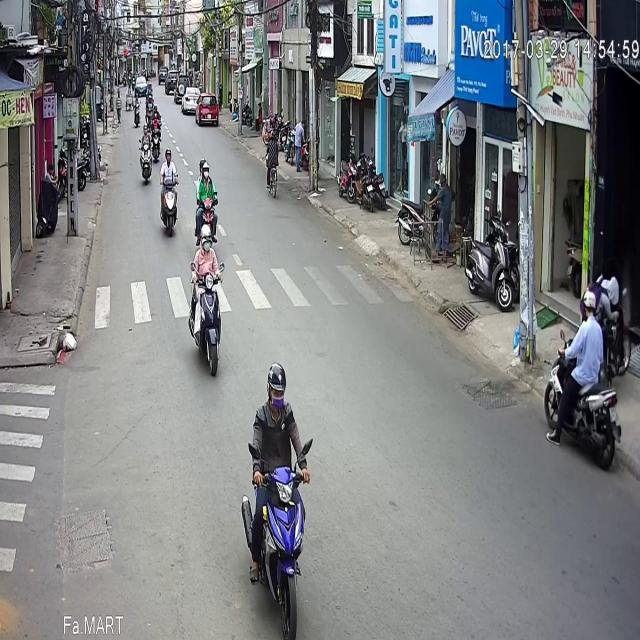bicycle: (264, 71, 278, 139)
car: (194, 34, 218, 68)
motorcycle: (241, 303, 313, 609), (544, 232, 622, 412), (188, 165, 225, 319), (192, 98, 218, 186), (158, 88, 178, 176), (138, 64, 152, 125), (150, 53, 162, 105)
